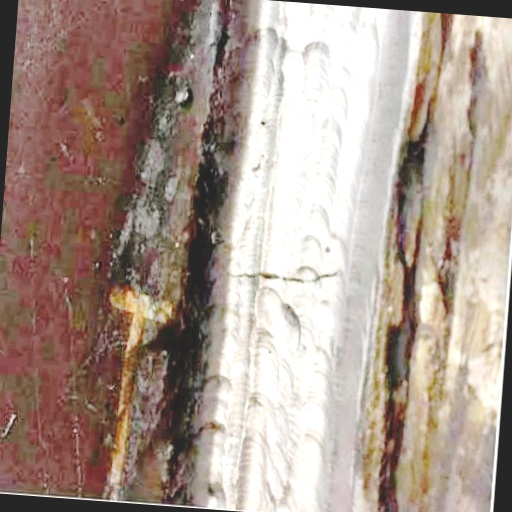crack: (224, 256, 348, 294)
